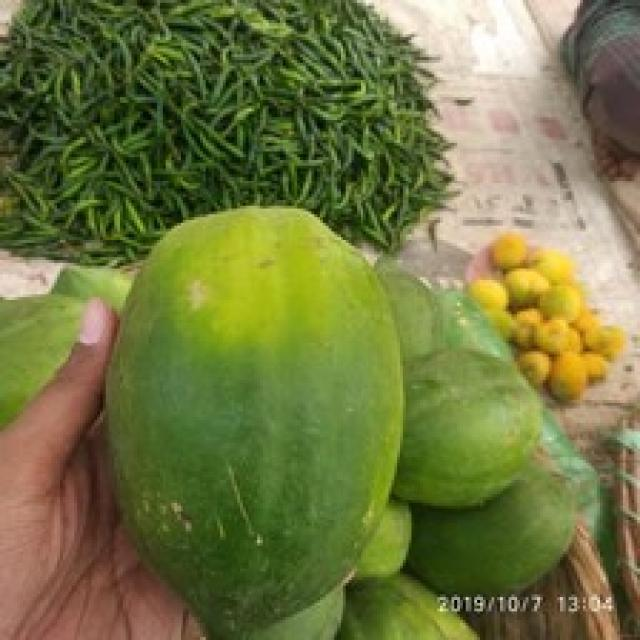Pepaya unrippen: (90, 198, 407, 615)
